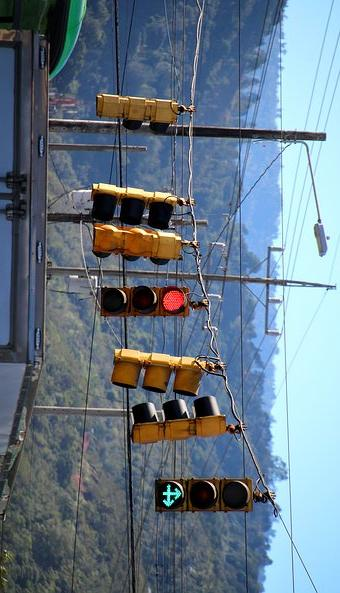trafic: (104, 284, 189, 316)
